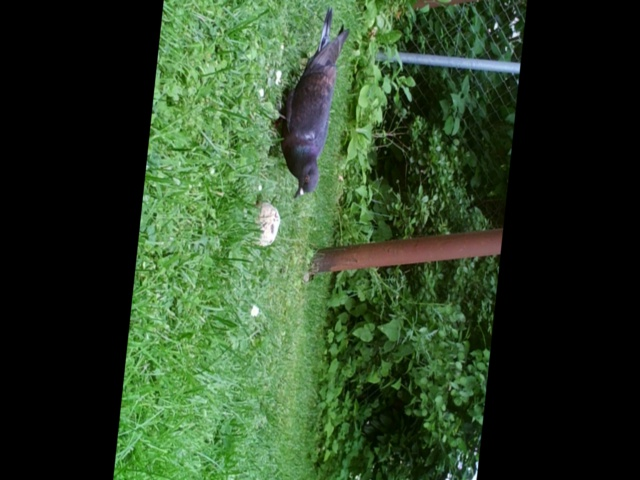Pigeon: (259, 7, 355, 202)
